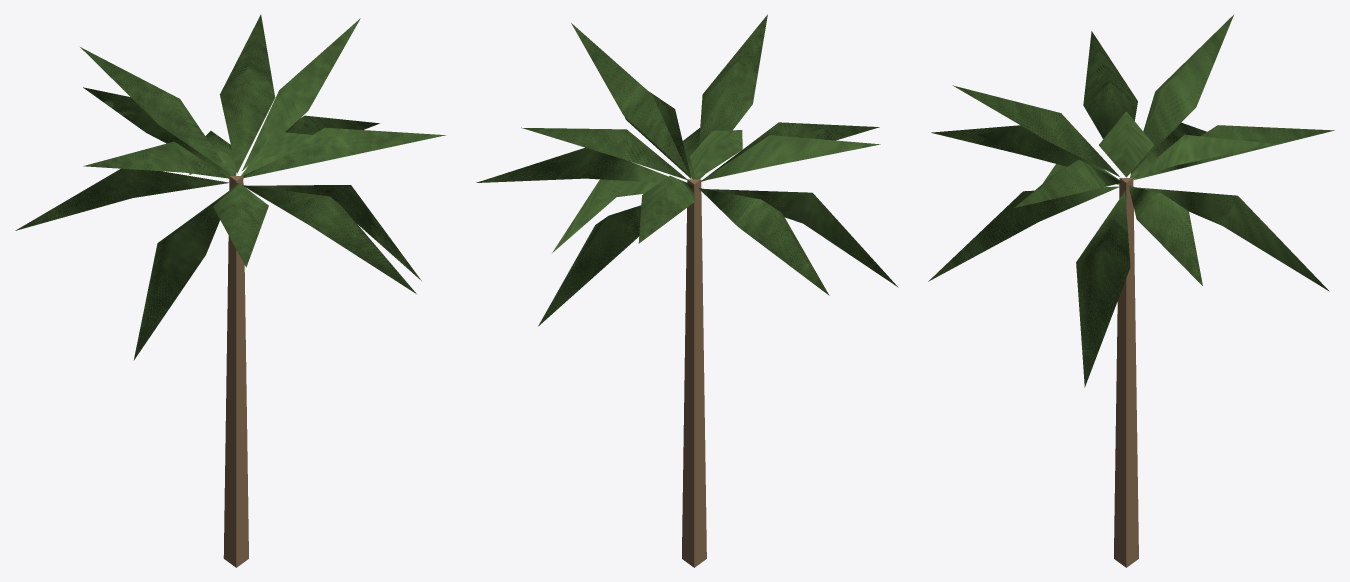
Rendered from 5_far.fbx.
3 renders of one model, left to right at view 1: azimuth 30°, elevation 25°; view 2: azimuth 150°, elevation 25°; view 3: azimuth 270°, elevation 25°, orthographic.
Parts seen in each view (by area): view 1: Prop_5_far; view 2: Prop_5_far; view 3: Prop_5_far.
Boxes of the visible parts, x1,y1,x2,y2 form: Prop_5_far: [15, 14, 445, 567]; Prop_5_far: [476, 14, 898, 567]; Prop_5_far: [928, 15, 1334, 567].
Size of the model in its own units: 8.58 by 11.64 by 8.42.
